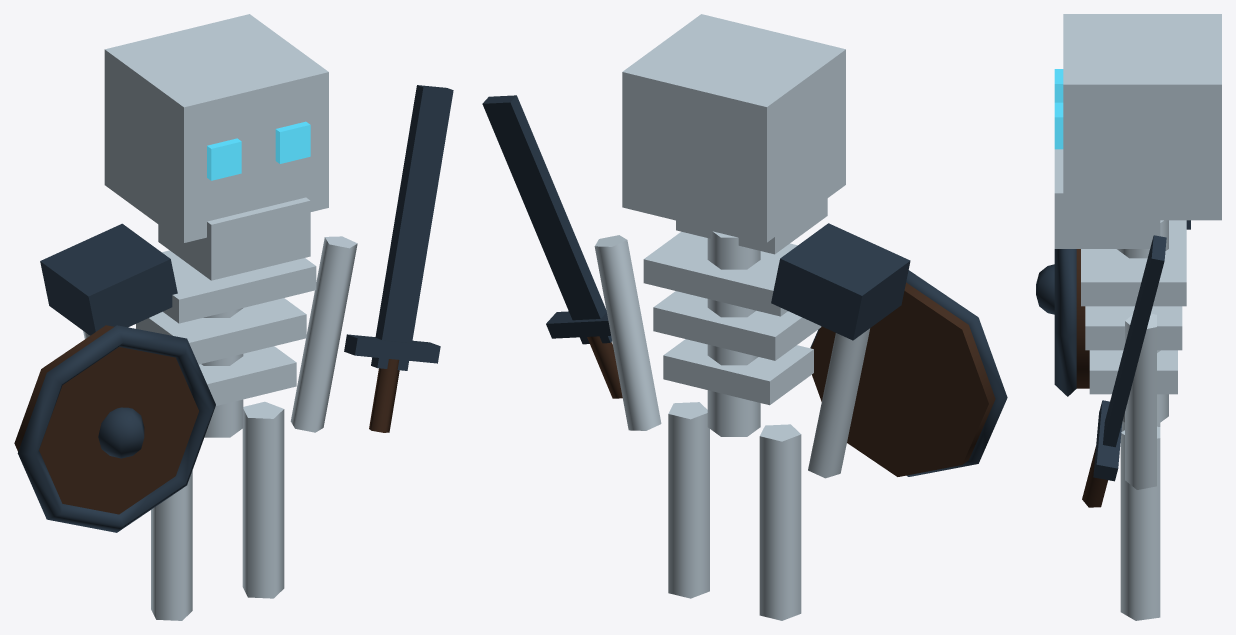
Rendered from skeleton.glb.
3 renders of one model, left to right at view 1: azimuth 30°, elevation 25°; view 2: azimuth 150°, elevation 25°; view 3: azimuth 270°, elevation 25°, orthographic.
Visible parts, largest first — view 1: enemy_skeleton; view 2: enemy_skeleton; view 3: enemy_skeleton.
Part boxes in pixels (left/top/right/bottom): enemy_skeleton: left=14, top=14, right=453, bottom=620; enemy_skeleton: left=482, top=14, right=1007, bottom=620; enemy_skeleton: left=1036, top=14, right=1221, bottom=620.
Size of the model in its own units: 1.25 by 1.35 by 0.422.
